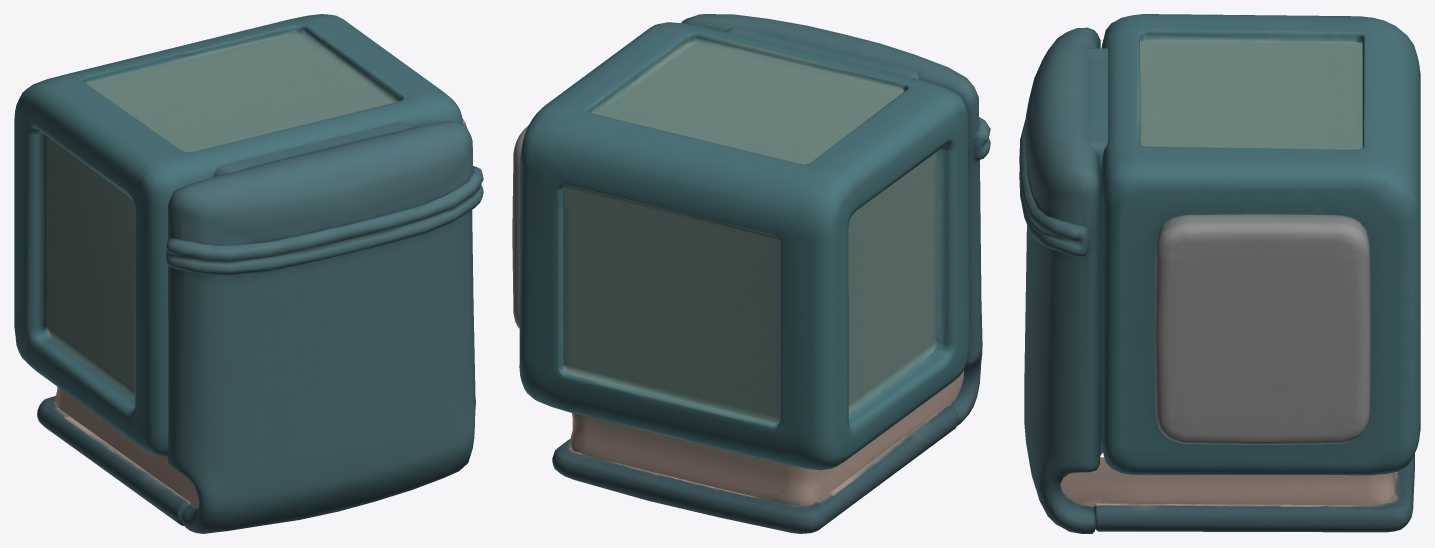
File: icon-book.glb
3 renders of one model, left to right at view 1: azimuth 30°, elevation 25°; view 2: azimuth 150°, elevation 25°; view 3: azimuth 270°, elevation 25°, orthographic. The views are drawn at different scales.
Parts seen in each view (by area): view 1: tripo_node_kodyurd-model-24____________________; view 2: tripo_node_kodyurd-model-24____________________; view 3: tripo_node_kodyurd-model-24____________________.
Part boxes in pixels (box(x1,y1,x2,y2)): tripo_node_kodyurd-model-24____________________: box(14, 14, 483, 533); tripo_node_kodyurd-model-24____________________: box(512, 14, 990, 533); tripo_node_kodyurd-model-24____________________: box(1019, 14, 1420, 533).
Bounding box in the file's own units: 0.998 × 0.998 × 0.9434.
Materials: 1 (1 with a texture image).
